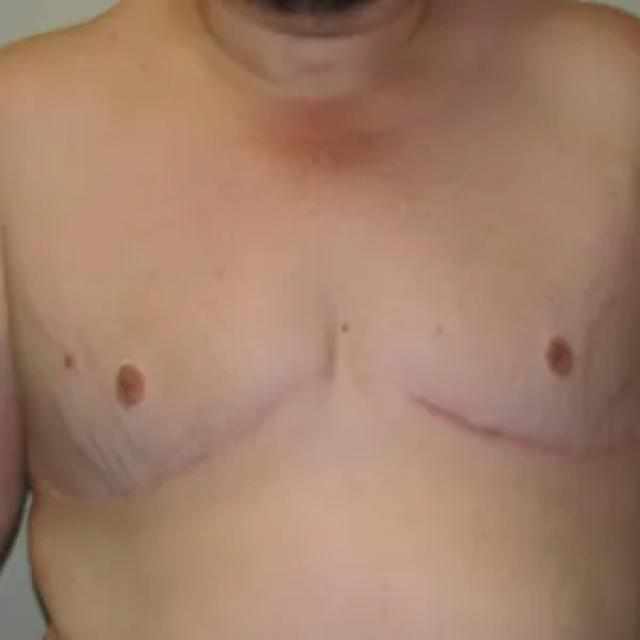Seno herido: (12, 257, 336, 527), (355, 214, 638, 490)
